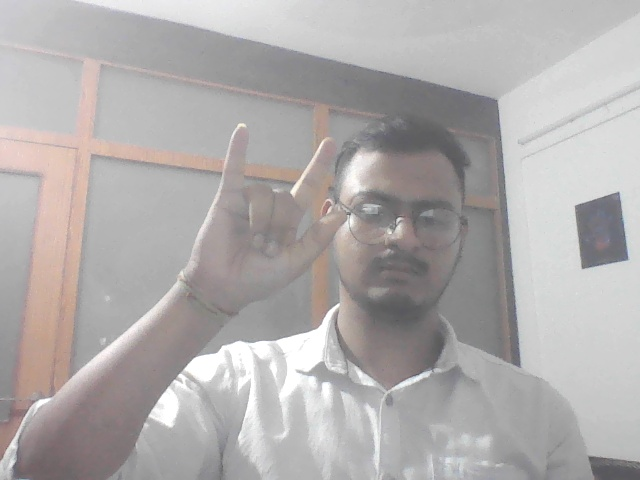I Love You: (183, 115, 355, 314)
